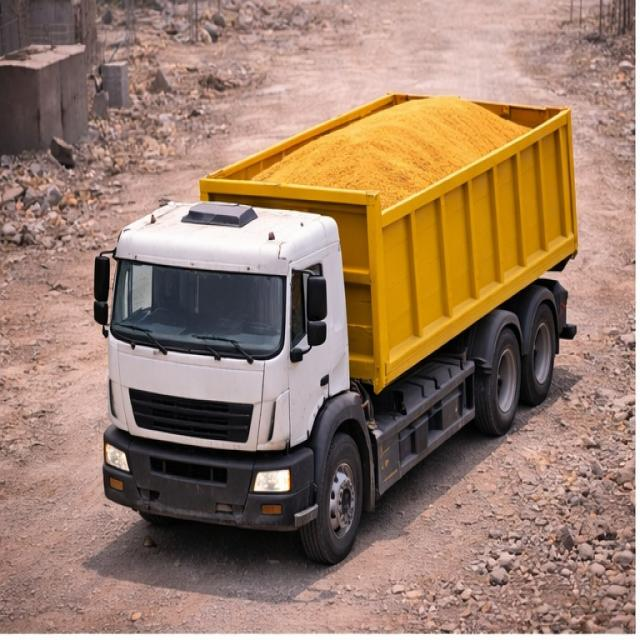trailer: (197, 89, 573, 217)
truck: (86, 79, 577, 555)
